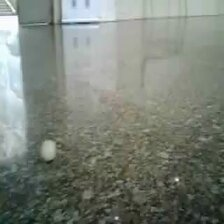w: (37, 138, 60, 162)
